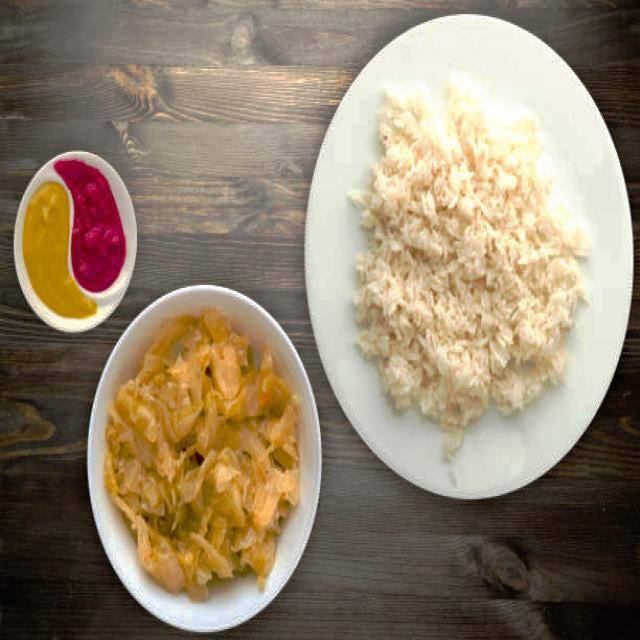rice: (347, 78, 592, 465)
